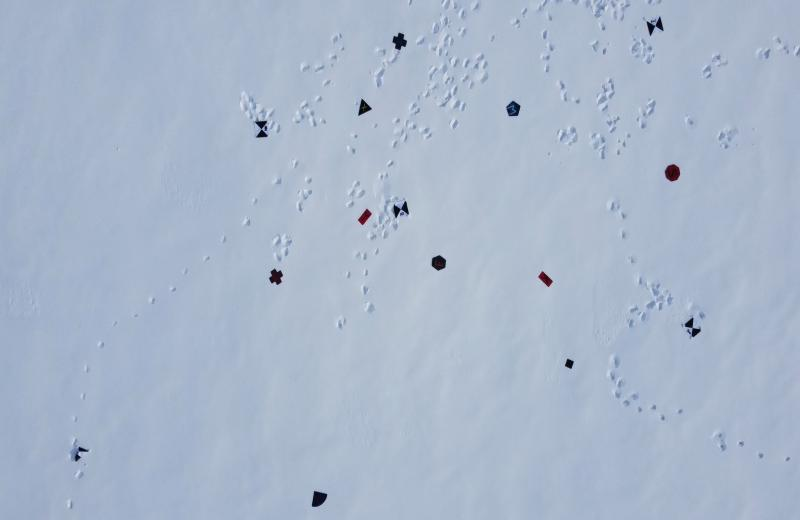Cross: (392, 31, 408, 52), (268, 268, 284, 287)
Hexagon: (430, 254, 448, 272)
Octagon: (664, 164, 682, 182)
Pentagon: (506, 100, 522, 119)
Quarter Circle: (309, 490, 330, 510)
Rectangle: (356, 207, 374, 228), (537, 270, 554, 290)
Square: (564, 356, 575, 371)
Triangle: (356, 98, 374, 116)
